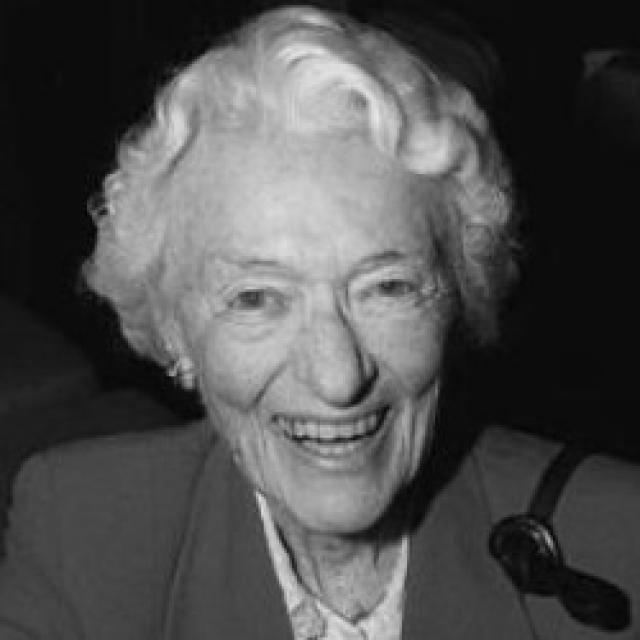real: (158, 70, 464, 513), (212, 257, 433, 338)
